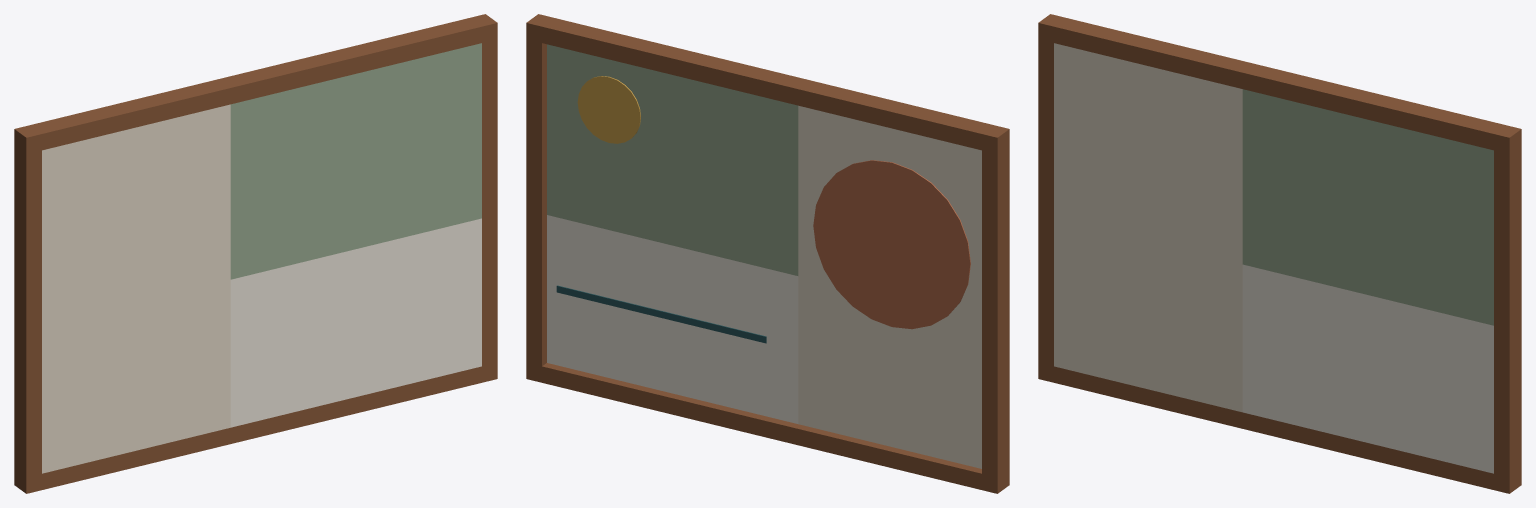
The picture shows the model from 3 angles, left to right: view 1: azimuth 30°, elevation 25°; view 2: azimuth 150°, elevation 25°; view 3: azimuth 330°, elevation 25°; orthographic projection.
Visible parts, largest first — view 1: field-left, field-top, field-bottom, frame-bottom; view 2: frame-bottom, field-top, field-left, field-bottom, sun, moon, line; view 3: field-left, field-top, field-bottom, frame-bottom.
Part boxes in pixels (box(x1,y1,x2,y2)): field-left: box(42, 104, 230, 473); field-top: box(230, 43, 481, 279); field-bottom: box(230, 218, 481, 427); frame-bottom: box(14, 14, 497, 493); frame-bottom: box(526, 14, 1009, 493); field-top: box(547, 44, 798, 275); field-left: box(798, 105, 981, 468); field-bottom: box(547, 215, 798, 423); sun: box(813, 160, 970, 329); moon: box(577, 76, 640, 143); line: box(556, 285, 766, 343); field-left: box(1054, 43, 1242, 412); field-top: box(1242, 89, 1493, 325); field-bottom: box(1242, 264, 1493, 473); frame-bottom: box(1038, 14, 1521, 493).
Bounding box in the file's own units: 0.9 × 0.65 × 0.04.
